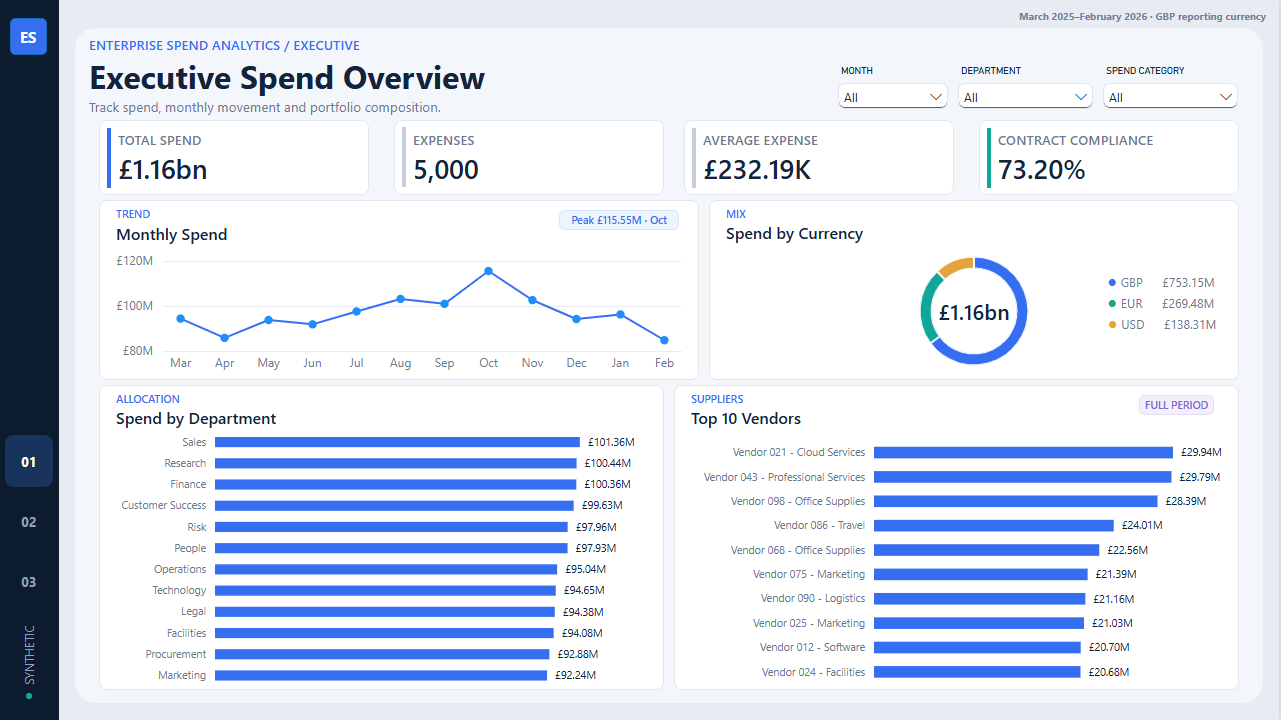

This screenshot's page, from the dashboard's own definition file:
{"tool":"powerbi","page":{"name":"Executive Spend Overview","canvas":[1280,720],"ordinal":0},"visuals":[{"type":"shape","box":[76,28,1188,675],"z":0},{"type":"slicer","fields":{"Values":["Dim Month.Month"]},"box":[834.4,65,120,50],"z":0,"group":"g2"},{"type":"cardVisual","fields":{"Data":["_Measures.Total Spend GBP"]},"box":[100,120,270,75],"z":0,"group":"g3"},{"type":"shape","box":[0,0,60,720],"z":1000},{"type":"slicer","fields":{"Values":["Dim Department.department_name"]},"box":[954.4,65,145,50],"z":1000,"group":"g2"},{"type":"cardVisual","fields":{"Data":["_Measures.Average Expense GBP"]},"box":[685,120,270,75],"z":1000,"group":"g3"},{"type":"shape","box":[11,18,37,37],"z":2000},{"type":"slicer","fields":{"Values":["Contract Compliance.spend_category"]},"box":[1099.4,65,145,50],"z":2000,"group":"g2"},{"type":"cardVisual","fields":{"Data":["_Measures.Expense Count Display"]},"box":[395,120,270,75],"z":2000,"group":"g3"},{"type":"textbox","box":[21,27,30,30],"z":3000},{"type":"cardVisual","fields":{"Data":["_Measures.Contract Compliance %"]},"box":[980,120,260,75],"z":3000,"group":"g3"},{"type":"shape","box":[678,128,33.7,60],"z":4000,"group":"g3"},{"type":"actionButton","box":[6,435,48,52],"z":4000},{"type":"shape","box":[93,128,33.7,60],"z":5000,"group":"g3"},{"type":"actionButton","box":[6,495,48,52],"z":5000},{"type":"shape","box":[973,128,33.7,60],"z":6000,"group":"g3"},{"type":"actionButton","box":[6,555,48,52],"z":6000},{"type":"shape","box":[10,610,40,90],"z":6000,"group":"g1"},{"type":"shape","box":[388.4,127.4,33.7,60],"z":7000,"group":"g3"},{"type":"group","id":"g1","title":"Group 1","box":[10,610,40,95],"z":7000},{"type":"textbox","box":[26,685,15,20],"z":7000,"group":"g1"},{"type":"textbox","box":[90,35,413.2,95],"z":8000},{"type":"textbox","box":[1020,5,250,40],"z":9000},{"type":"group","id":"g2","title":"Group 2","box":[834.4,65,409.7,49.7],"z":10000},{"type":"group","id":"g3","title":"Group 3","box":[93,120,1147,75],"z":11000},{"type":"group","id":"g4","title":"Group 5","box":[100,200,1140,490],"z":12000},{"type":"shape","box":[1140,395,75,20],"z":13000},{"type":"shape","box":[560,210,120,20],"z":14000},{"type":"textbox","box":[1105,270,146.9,65],"z":15000},{"type":"group","id":"g5","title":"Group 6","box":[100,385,1140,305],"z":15001,"group":"g4"},{"type":"lineChart","title":"TREND","fields":{"Y":["_Measures.Total Spend GBP"],"Category":["Dim Month.Month"]},"box":[100,200,600,180],"z":17000,"group":"g6"},{"type":"clusteredBarChart","title":"ALLOCATION","fields":{"Y":["_Measures.Total Spend GBP"],"Category":["Dim Department.department_name"]},"box":[100,385,565,305],"z":18000,"group":"g5"},{"type":"donutChart","title":"MIX","fields":{"Category":["Monthly Currency Spend.original_currency"],"Y":["_Measures.Currency Spend GBP"]},"box":[710,200,530,180],"z":19000,"group":"g6"},{"type":"clusteredBarChart","title":"SUPPLIERS","fields":{"Y":["_Measures.Vendor Spend GBP"],"Category":["Vendor Performance.Vendor Short Name"]},"box":[675,385,565,305],"z":20000,"group":"g5"},{"type":"group","id":"g6","title":"Group 4","box":[100,200,1140,180],"z":21002,"group":"g4"}]}

Visuals, with their boxes on the page's 1280x720 design canvas (x1, y1, x2, y2). These are canvas units, not pixel positions in the 1281x720 screenshot, which may show the page scaled, cropped or inside an application window:
shape: select_region(76, 28, 1264, 703)
slicer - Dim Month.Month: select_region(834, 65, 954, 115)
cardVisual - _Measures.Total Spend GBP: select_region(100, 120, 370, 195)
shape: select_region(0, 0, 60, 720)
slicer - Dim Department.department_name: select_region(954, 65, 1099, 115)
cardVisual - _Measures.Average Expense GBP: select_region(685, 120, 955, 195)
shape: select_region(11, 18, 48, 55)
slicer - Contract Compliance.spend_category: select_region(1099, 65, 1244, 115)
cardVisual - _Measures.Expense Count Display: select_region(395, 120, 665, 195)
textbox: select_region(21, 27, 51, 57)
cardVisual - _Measures.Contract Compliance %: select_region(980, 120, 1240, 195)
shape: select_region(678, 128, 712, 188)
actionButton: select_region(6, 435, 54, 487)
shape: select_region(93, 128, 127, 188)
actionButton: select_region(6, 495, 54, 547)
shape: select_region(973, 128, 1007, 188)
actionButton: select_region(6, 555, 54, 607)
shape: select_region(10, 610, 50, 700)
shape: select_region(388, 127, 422, 187)
"Group 1" group: select_region(10, 610, 50, 705)
textbox: select_region(26, 685, 41, 705)
textbox: select_region(90, 35, 503, 130)
textbox: select_region(1020, 5, 1270, 45)
"Group 2" group: select_region(834, 65, 1244, 115)
"Group 3" group: select_region(93, 120, 1240, 195)
"Group 5" group: select_region(100, 200, 1240, 690)
shape: select_region(1140, 395, 1215, 415)
shape: select_region(560, 210, 680, 230)
textbox: select_region(1105, 270, 1252, 335)
"Group 6" group: select_region(100, 385, 1240, 690)
"TREND" lineChart: select_region(100, 200, 700, 380)
"ALLOCATION" clusteredBarChart: select_region(100, 385, 665, 690)
"MIX" donutChart: select_region(710, 200, 1240, 380)
"SUPPLIERS" clusteredBarChart: select_region(675, 385, 1240, 690)
"Group 4" group: select_region(100, 200, 1240, 380)
